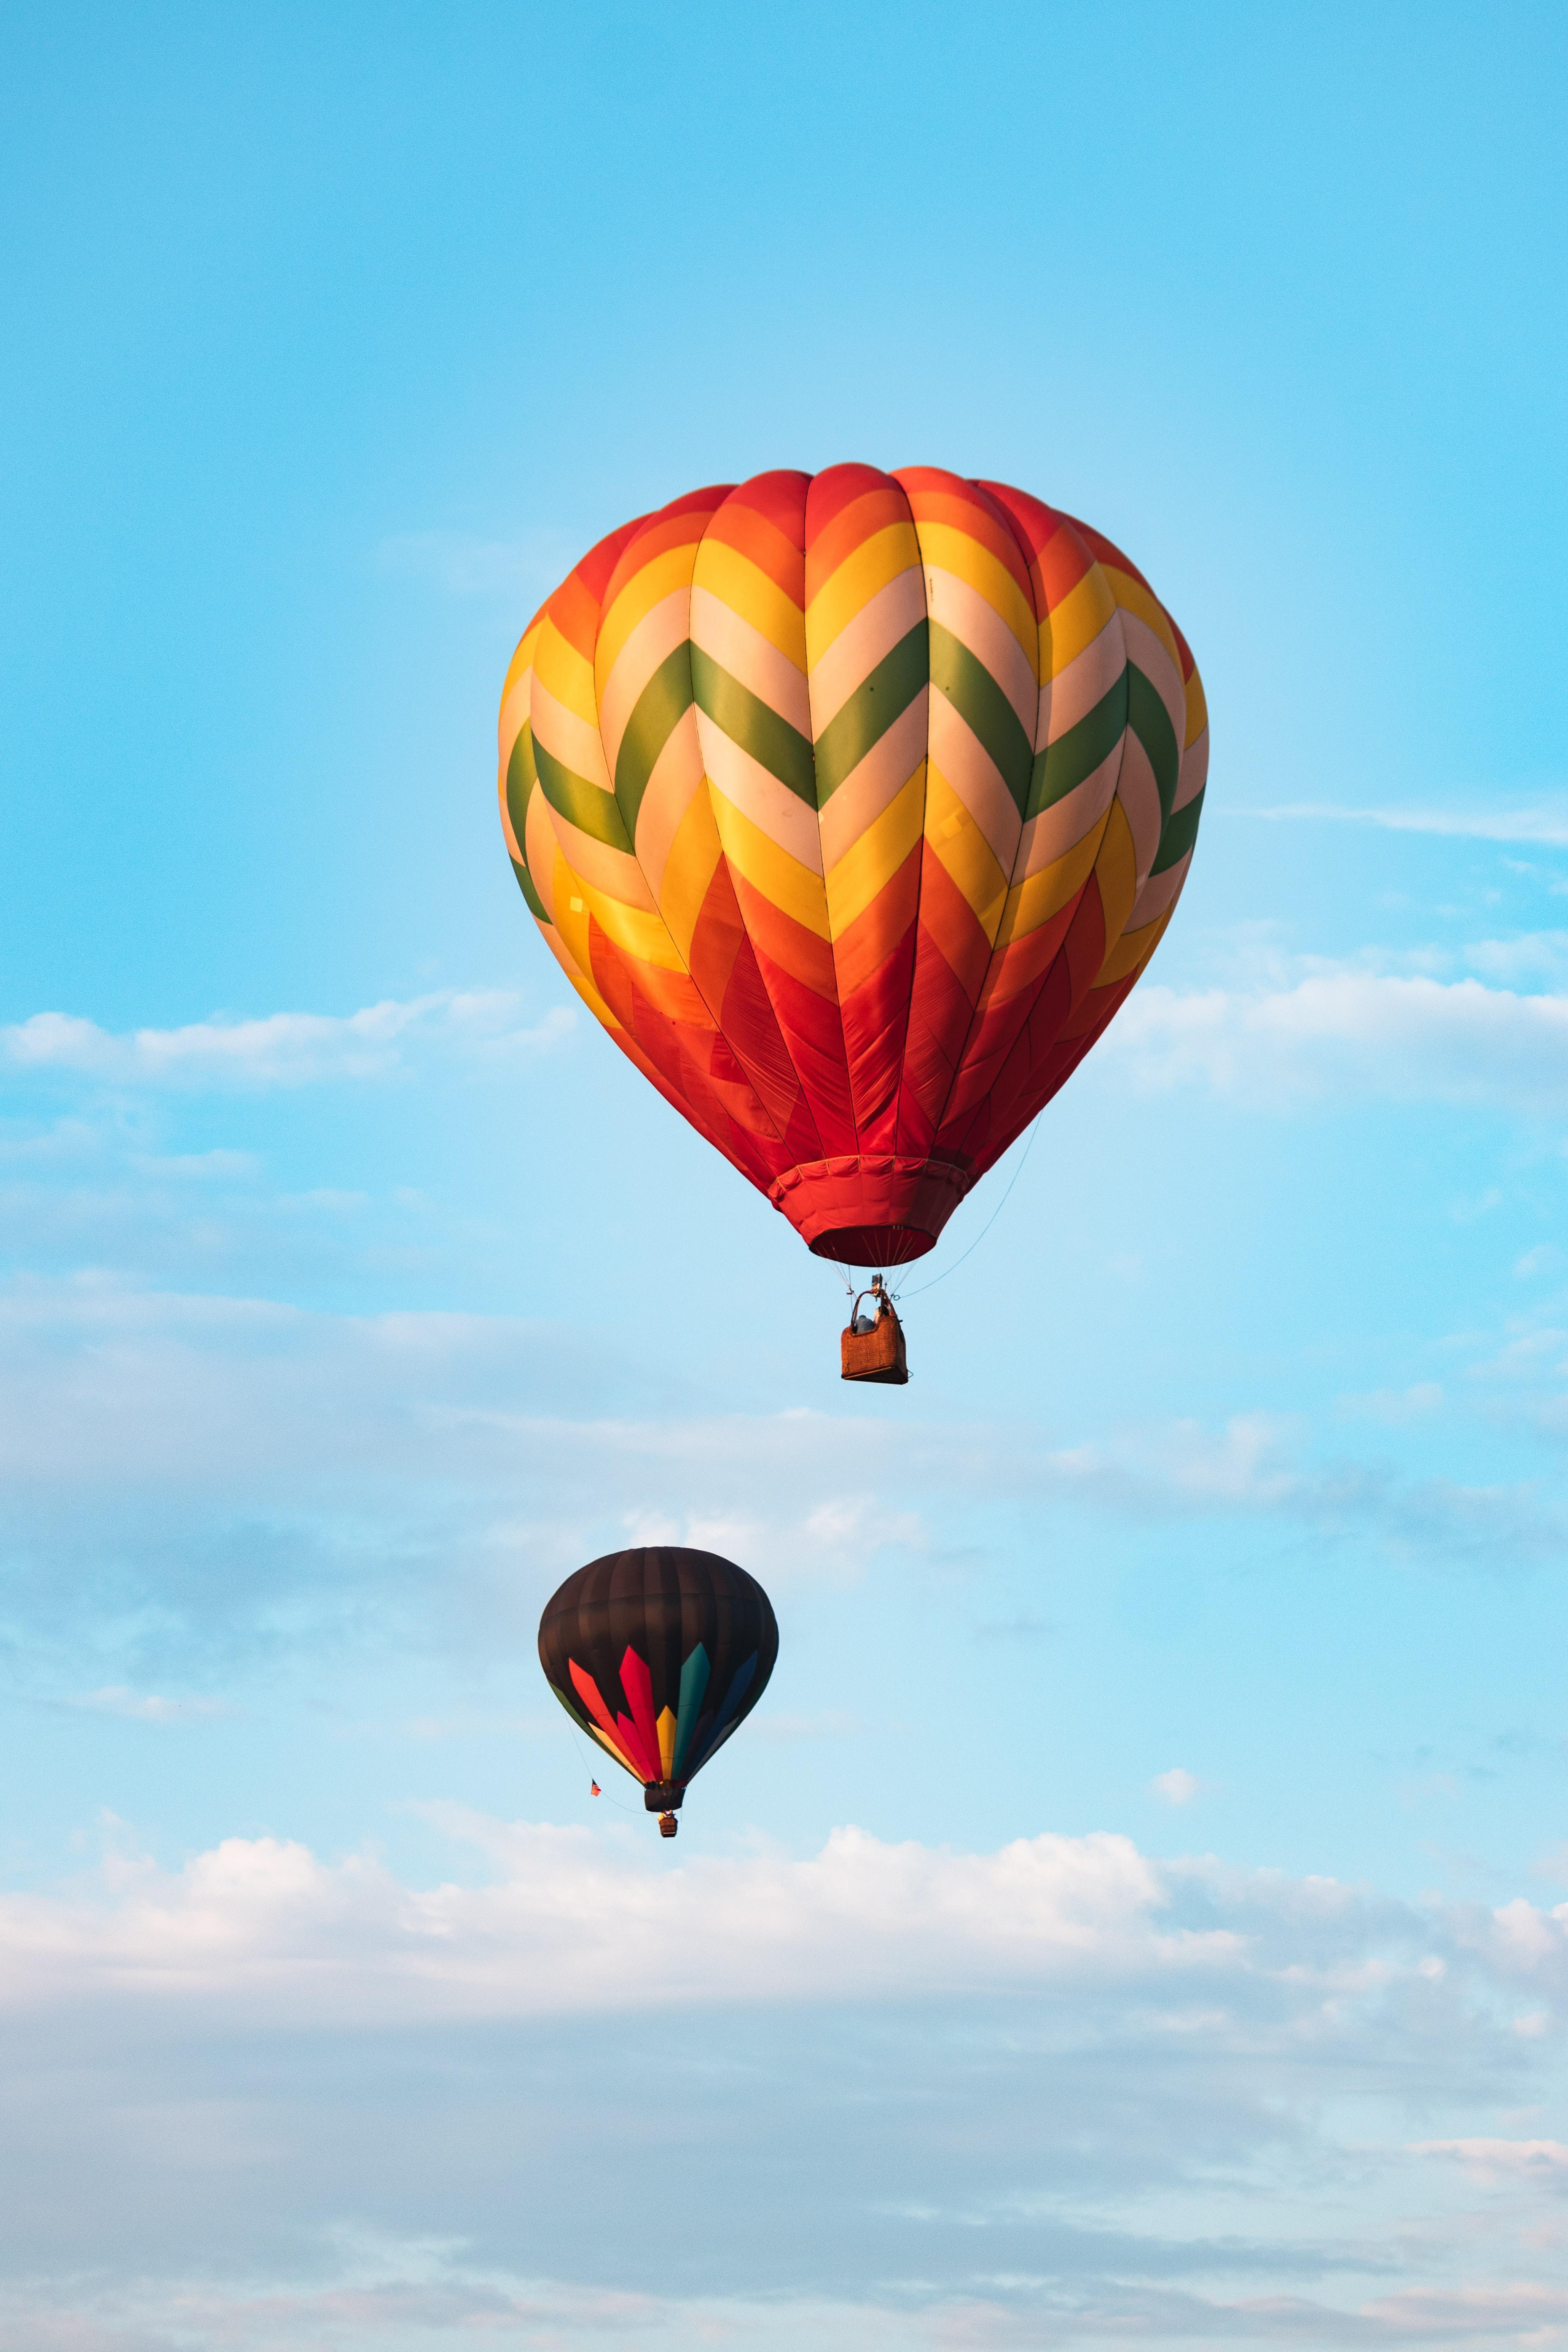hot air ballon: (487, 443, 1218, 1396), (528, 1533, 803, 1862)
